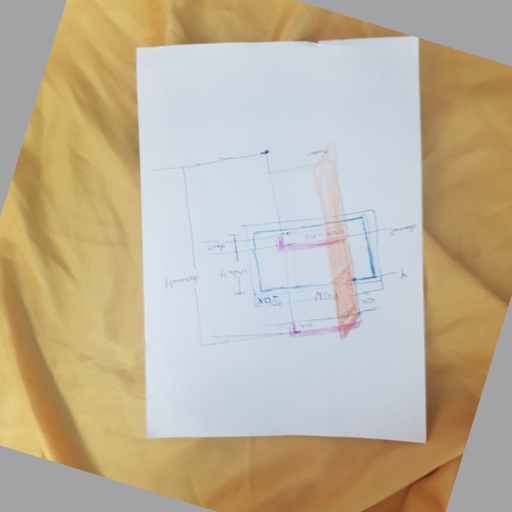Paper_2: (134, 33, 439, 453)
